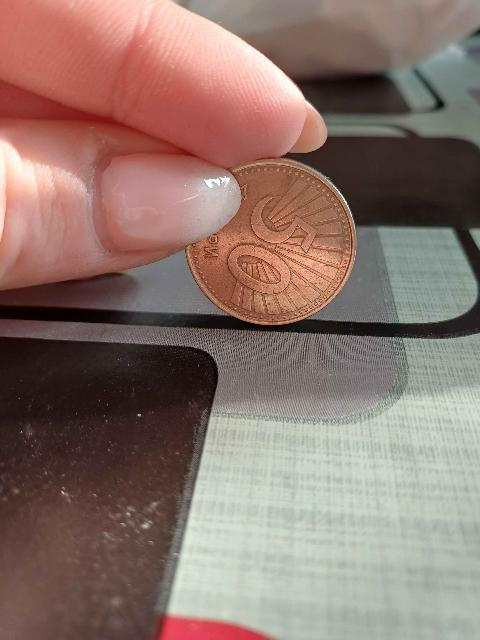coin: (187, 165, 354, 325)
